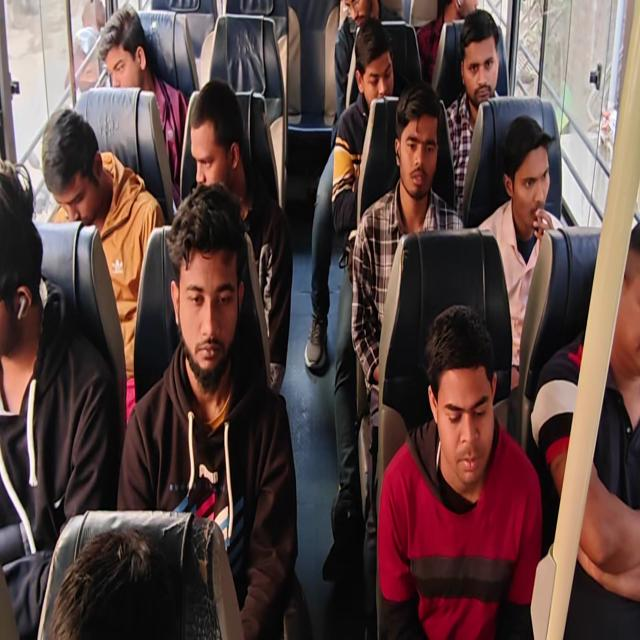person: (1, 1, 638, 638), (116, 181, 299, 638), (349, 81, 464, 636), (0, 158, 120, 638), (376, 304, 542, 638), (530, 220, 640, 638), (41, 108, 165, 424), (187, 79, 293, 395), (304, 16, 396, 370), (44, 509, 240, 639), (477, 114, 562, 390), (97, 4, 188, 209), (49, 526, 155, 638), (444, 9, 500, 212), (332, 0, 404, 146), (416, 0, 478, 86), (64, 25, 101, 98)
